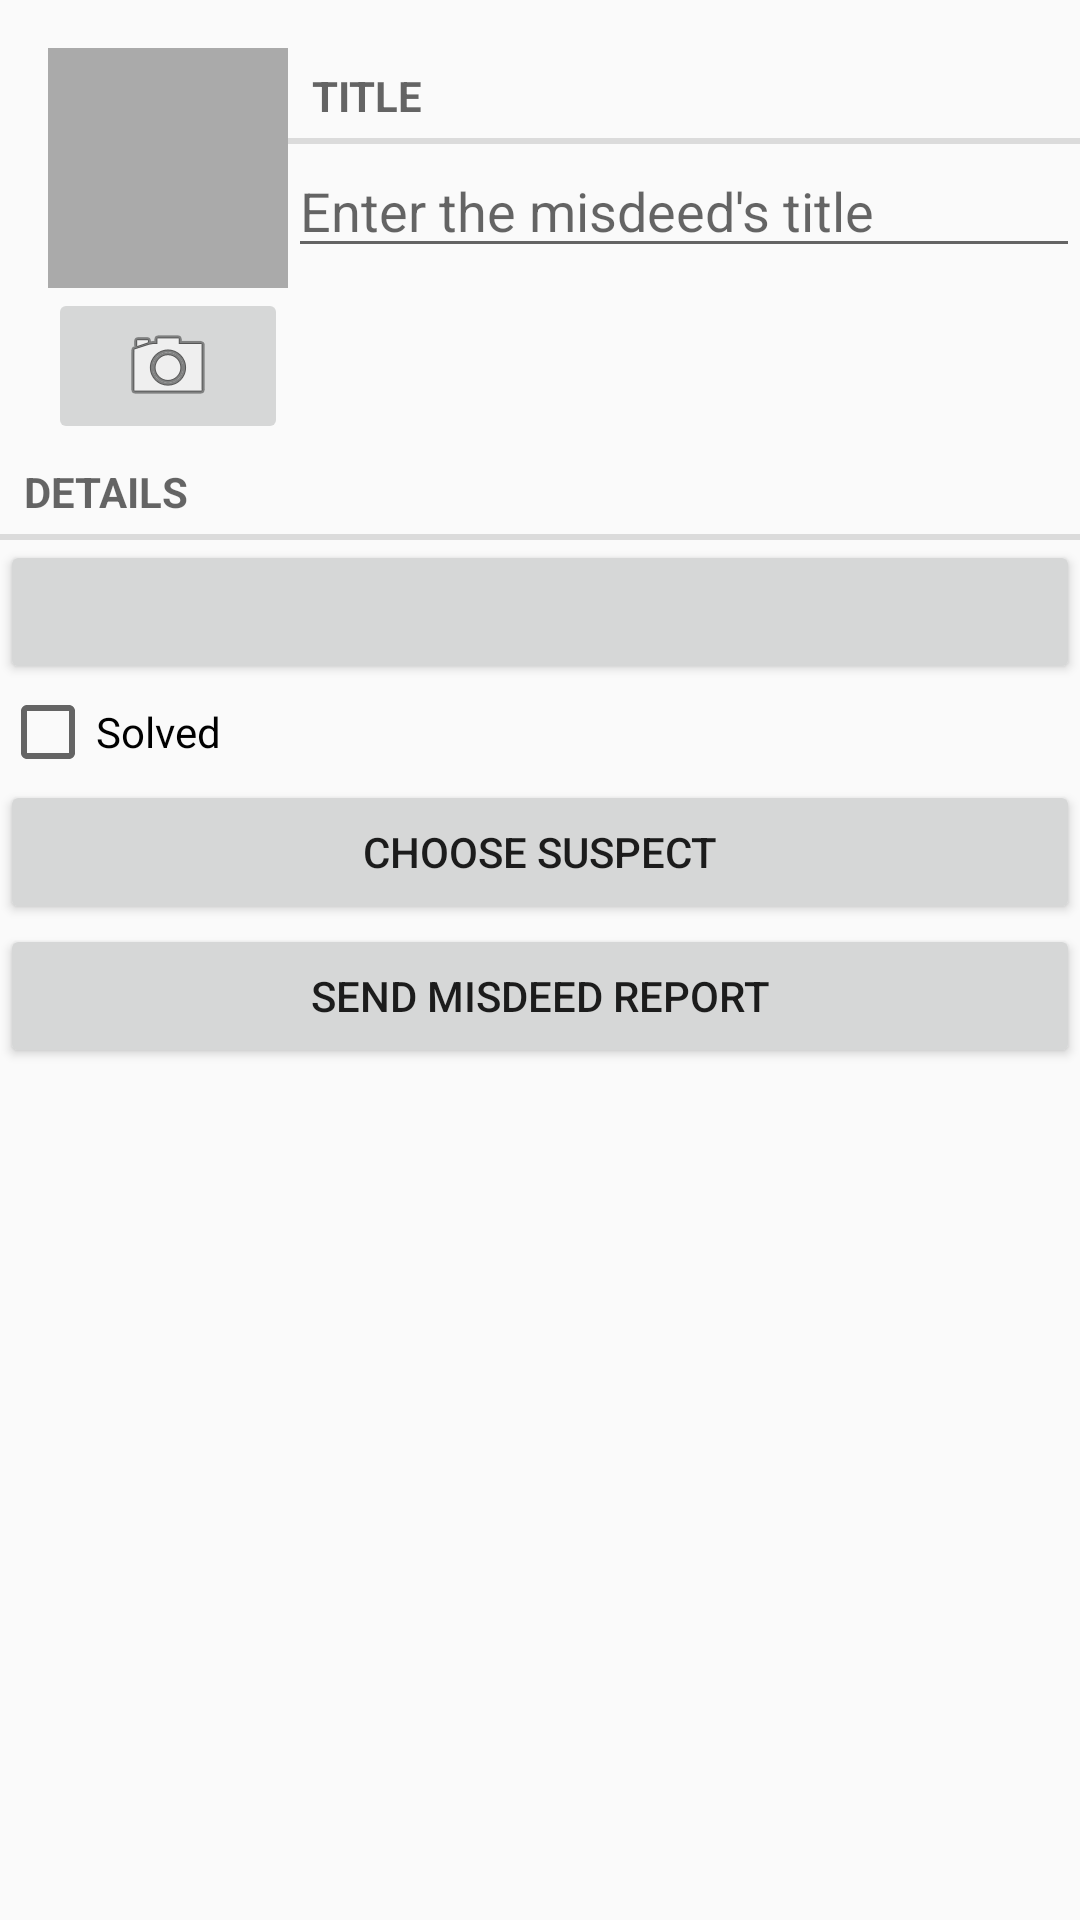

Locate icon controls on the screen. Image size 1080*1920, boxes as region(x1, y1, x2, y2).
camera: region(60, 306, 276, 426)
